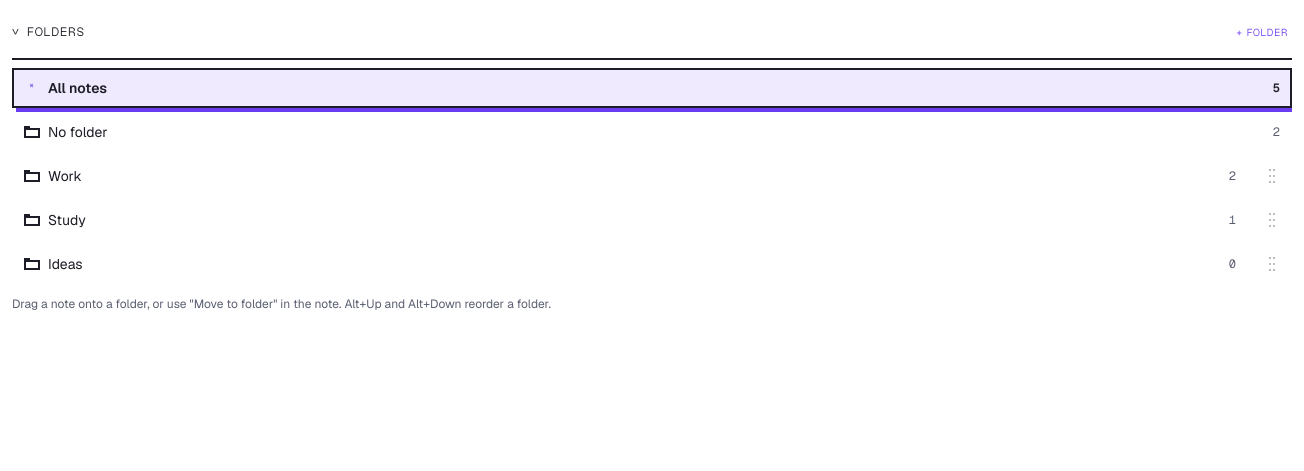
Test case: creates a folder, checking the name first
Click the button with aria-label "New folder": coordinates (1262, 32) [1232,12,1292,52]
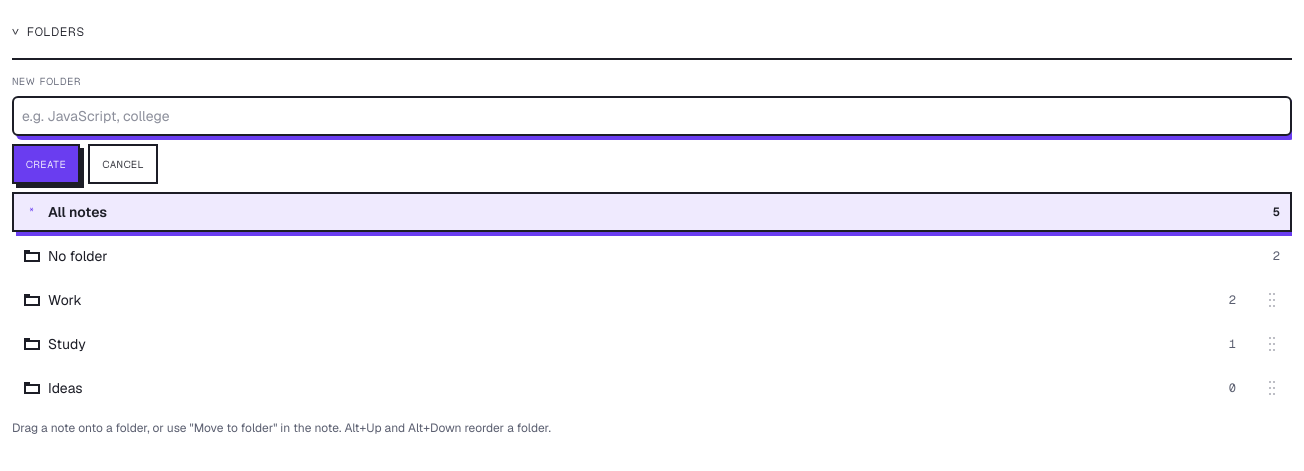
Click the button "Create": coordinates (46, 164) [12,144,80,184]
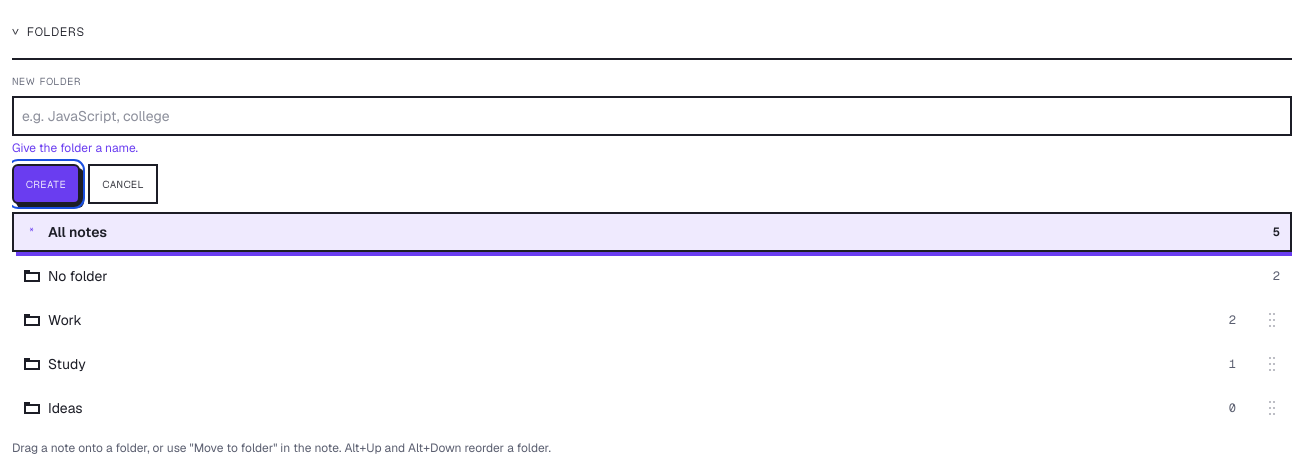
Result: the message reads "Give the folder a name." at [12,140,138,156]
In the field labelled "New folder": coordinates (652, 116) [12,96,1292,136], type "  Estudos   de JS "
Then press Enter
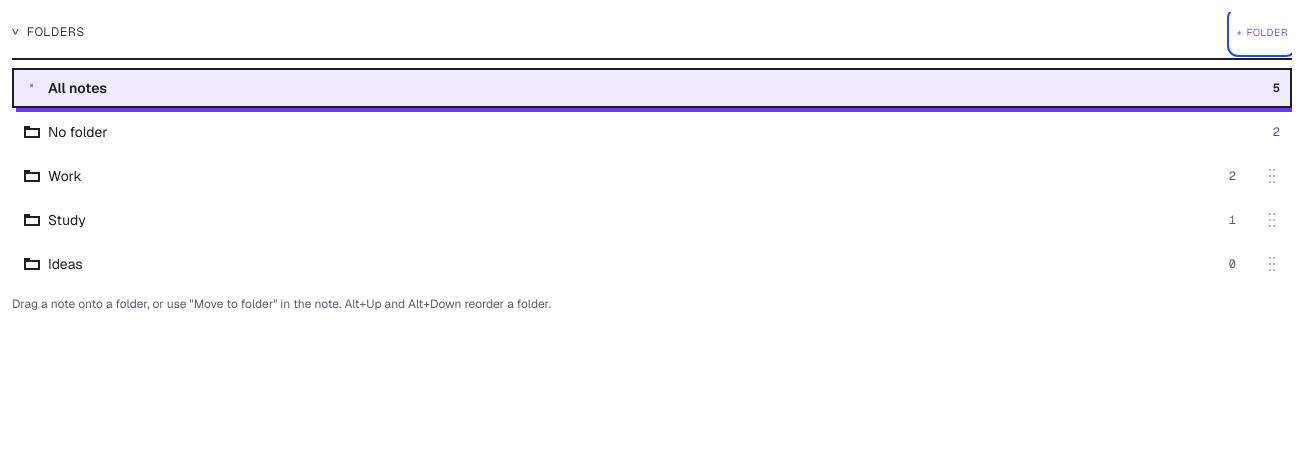
Result: the label "New folder" is gone
